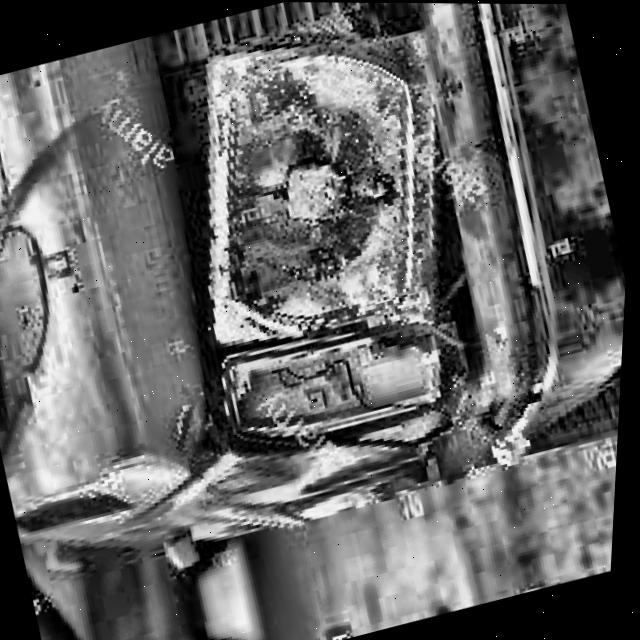head_lamp: (146, 12, 525, 455)
